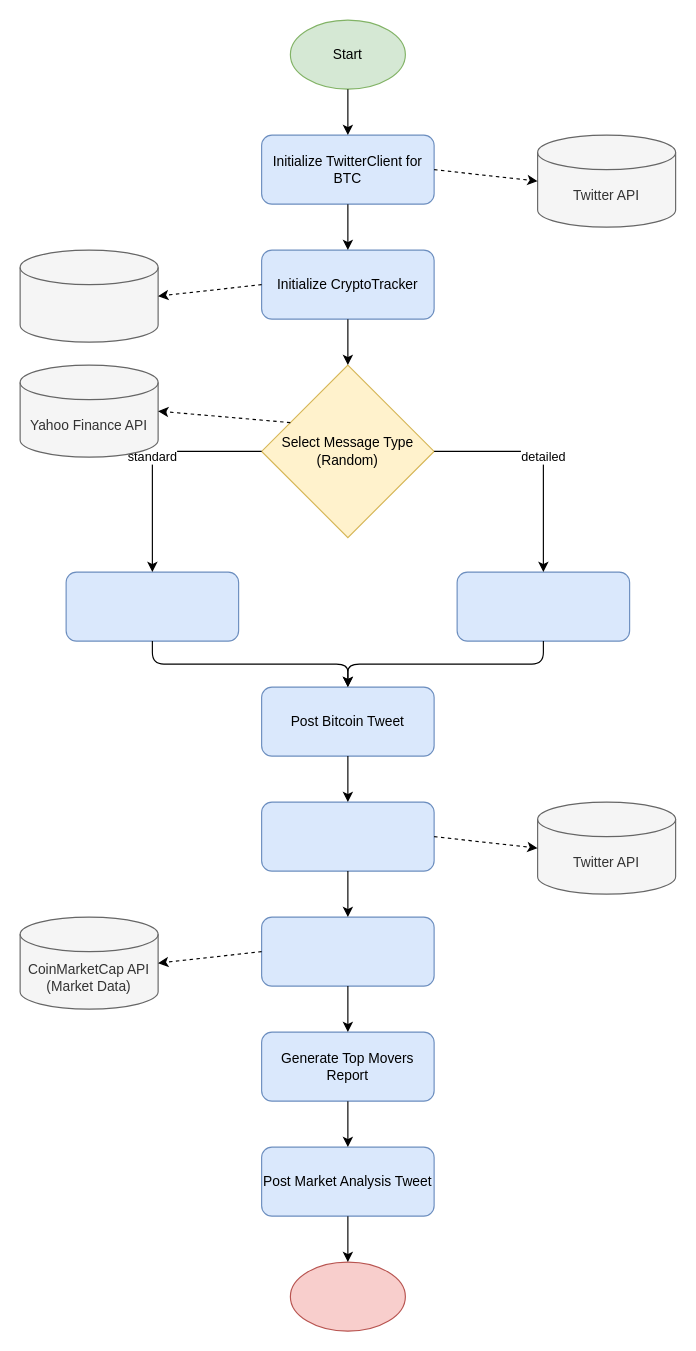
Some shapes in this 696 by 1351 pixel diagram are drawn without their labels. Each missing label, with the centre of its shape:
"CoinMarketCap API" belongs at (x=88, y=295).
"End" belongs at (x=347, y=1296).
"Generate Detailed Report" belongs at (x=543, y=606).
"Generate Standard Report" belongs at (x=152, y=606).
"Initialize MarketAnalyzer" belongs at (x=347, y=951).
"Initialize TwitterClient for News" belongs at (x=347, y=836).
